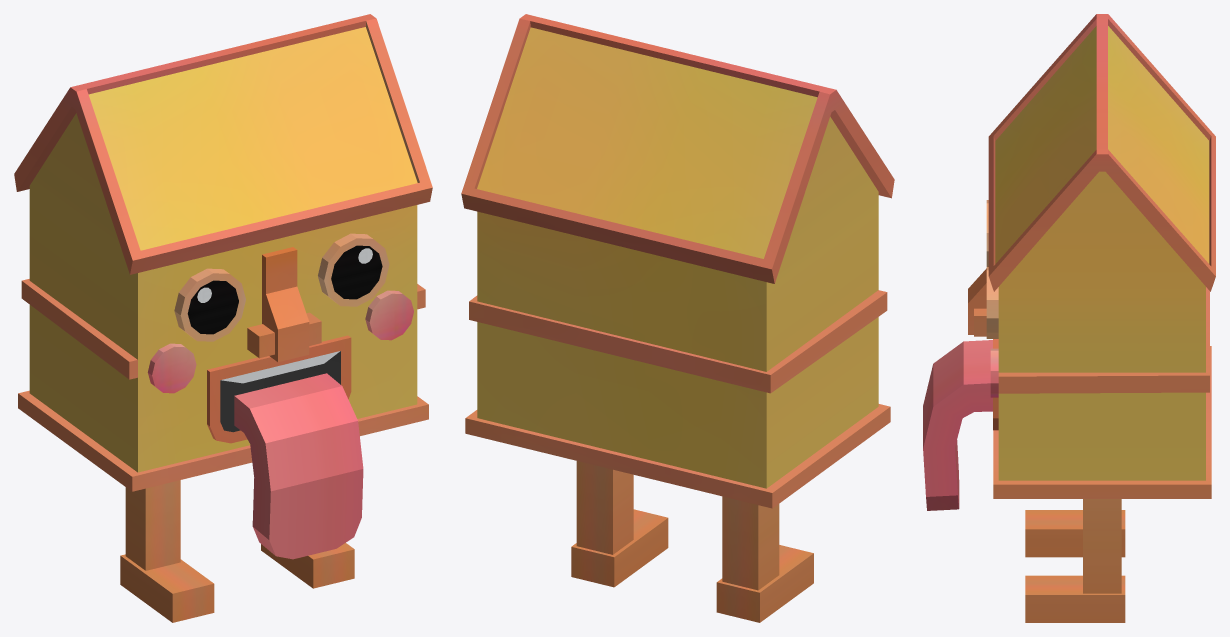
The model's file is Esok_Sekolah.fbx.
The picture shows the model from 3 angles, left to right: view 1: azimuth 30°, elevation 25°; view 2: azimuth 150°, elevation 25°; view 3: azimuth 270°, elevation 25°; orthographic projection. The views are drawn at different scales.
Parts seen in each view (by area): view 1: Cube.013; view 2: Cube.013; view 3: Cube.013.
Part boxes in pixels (x1,y1,x2,y2): Cube.013: [14, 14, 432, 622]; Cube.013: [461, 14, 894, 622]; Cube.013: [923, 14, 1215, 622].
Bounding box in the file's own units: 1.62 × 2.68 × 1.43.
